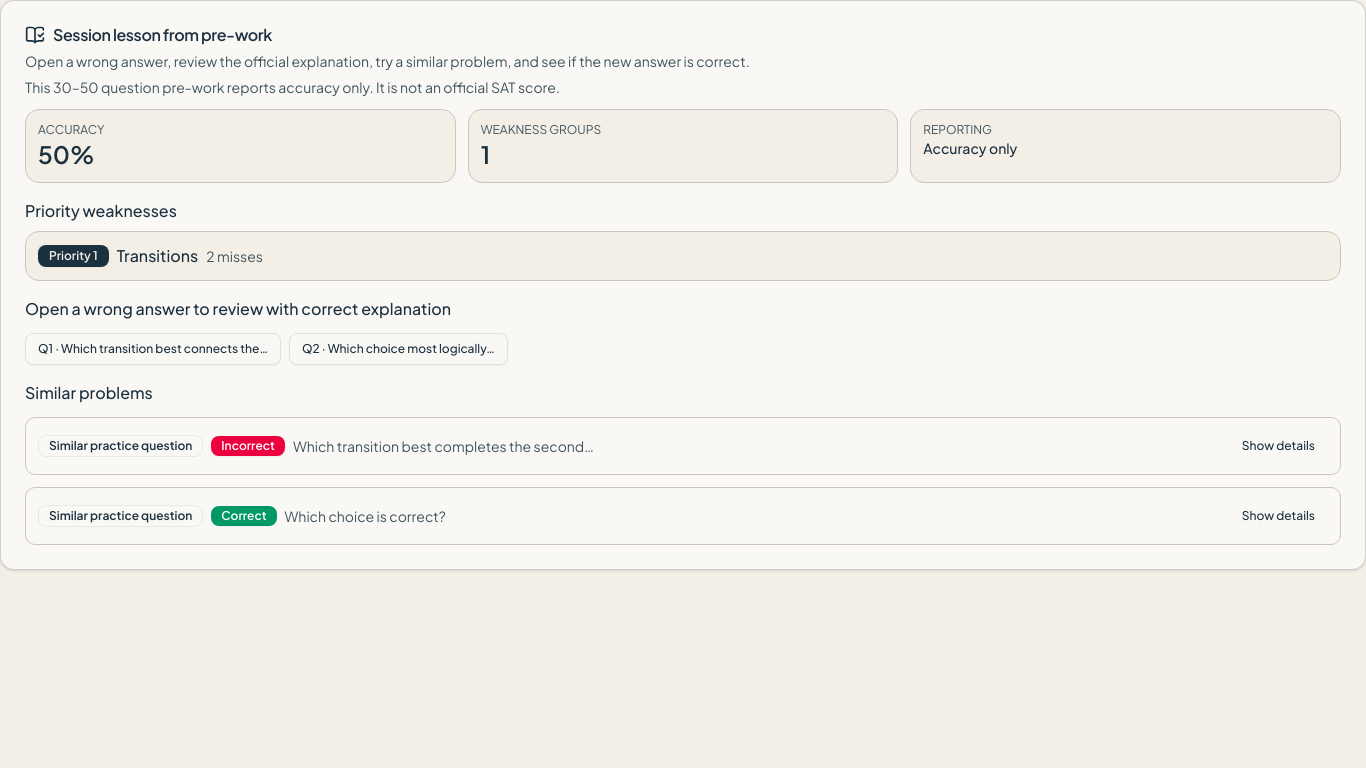
Test case: session lesson dashboard › graded retries collapse by default and can show details
The width and height of the screenshot is (1366, 768).
Expected: the text with test id "retry-outcome-retry-2" reads "Incorrect", [221,438,275,453]
Expected: the text with test id "retry-outcome-retry-3" reads "Correct", [221,508,267,523]
Click the button with test id "retry-toggle-retry-2" at (1278,446), box [1229,430,1328,462]
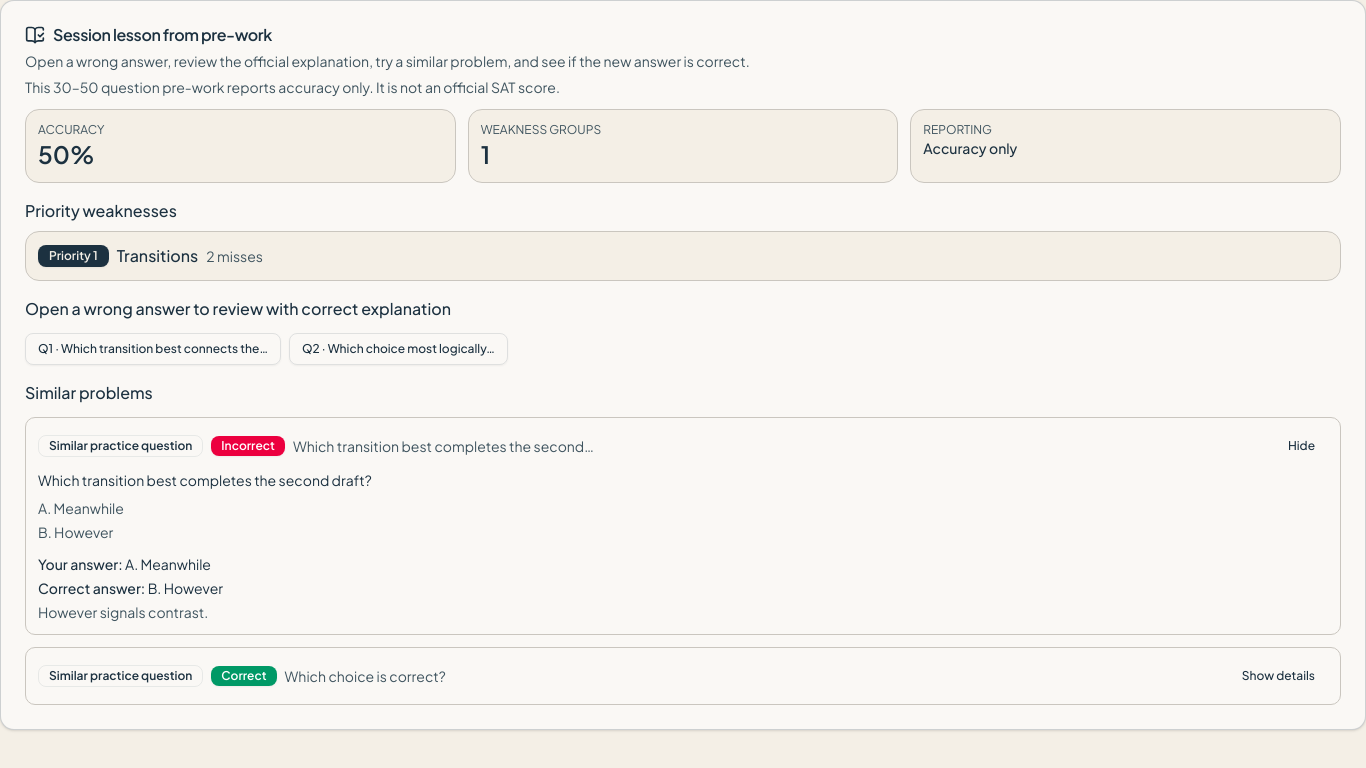
Expected: the button with test id "retry-toggle-retry-2" reads "Hide"
Expected: the element with test id "retry-feedback-retry-2" reads "Your answer: A. Meanwhile Correct answer: B. However However signals contrast.", [38,555,223,621]
Expected: the element with test id "retry-correct-answer-retry-2" shows "B. However", [148,579,223,597]
Click the button with test id "retry-toggle-retry-2" at (1301,446), box [1275,430,1328,462]
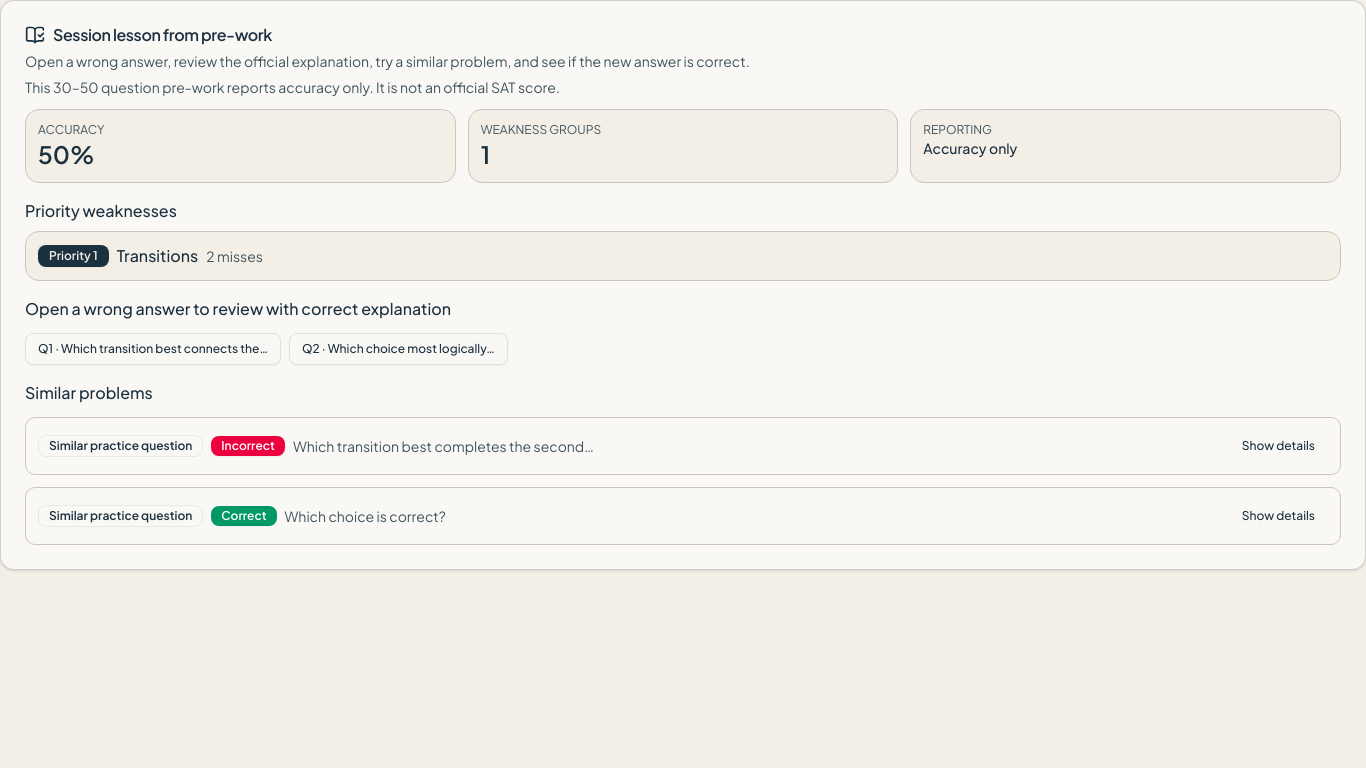
Expected: the element with test id "retry-feedback-retry-2" is gone
Click the button with test id "retry-toggle-retry-3" at (1278,516), box [1229,500,1328,532]
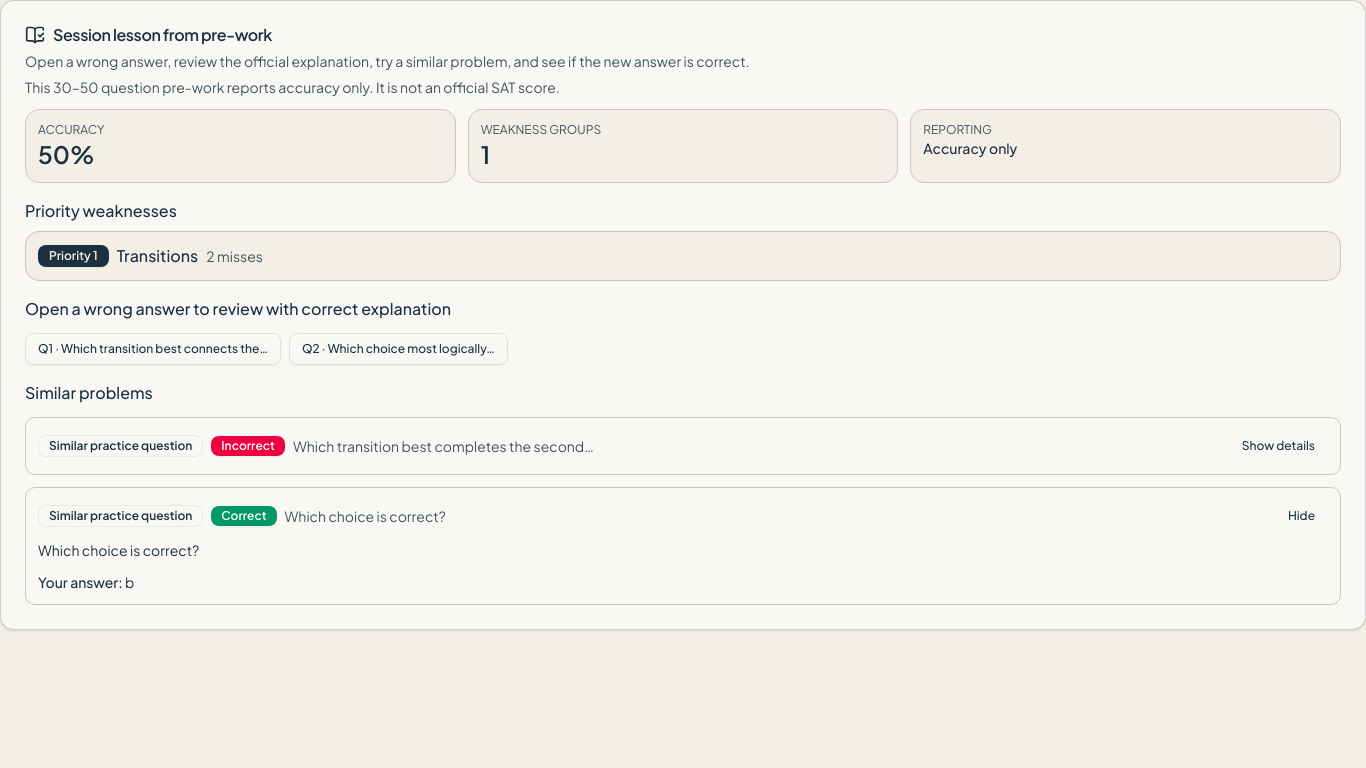
Expected: the element with test id "retry-feedback-retry-3" shows "Your answer", [38,573,123,591]
